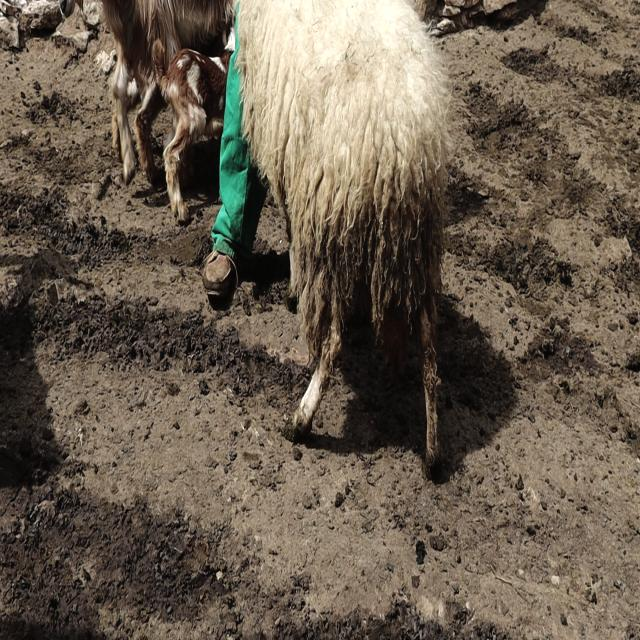Score_4: (232, 0, 452, 468)
